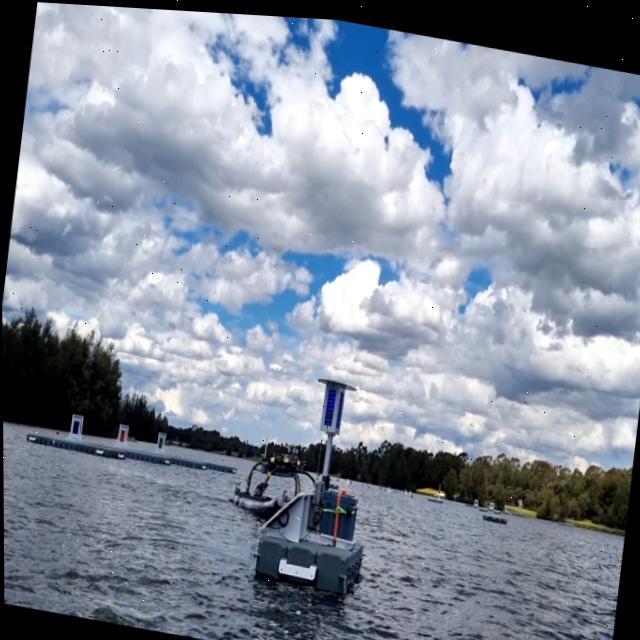led: (321, 380, 337, 427)
